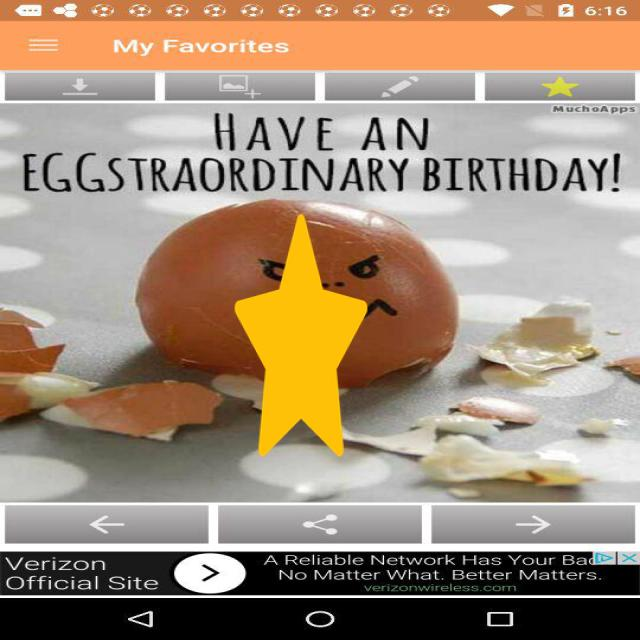forced continuity: (235, 214, 367, 457)
